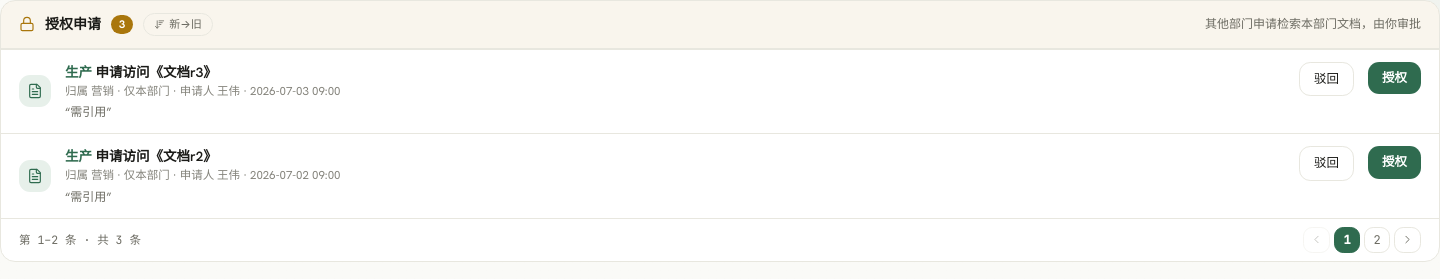
Test case: AccessRequestQueue › 排序切换 → 旧→新 + 回第 1 页；审批后变短 → 页码收敛不越界
Click the button with test id "queue-sort" at (178, 24), box [143,13,213,36]
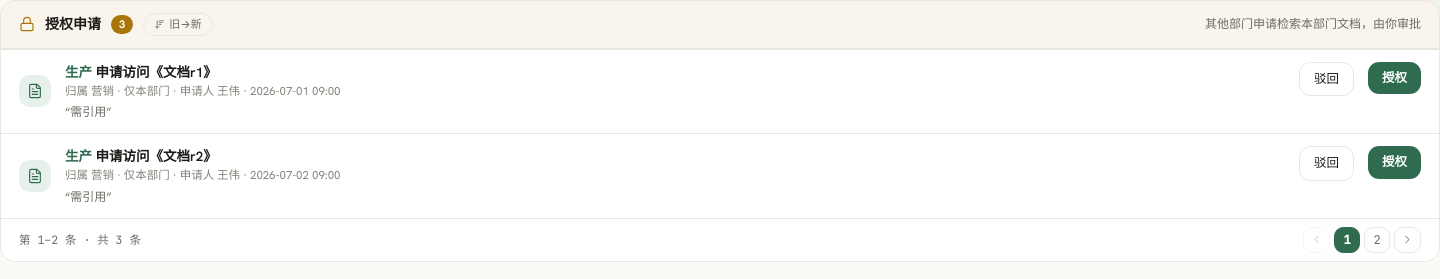
Check: the button with test id "queue-sort" reads "旧→新", box [143,13,213,36]
Check: the text "文档r1" is shown, box [92,62,217,80]
Check: the text "文档r3" is gone
Click the button named "下一页" at (1408, 240), box [1394,226,1421,252]
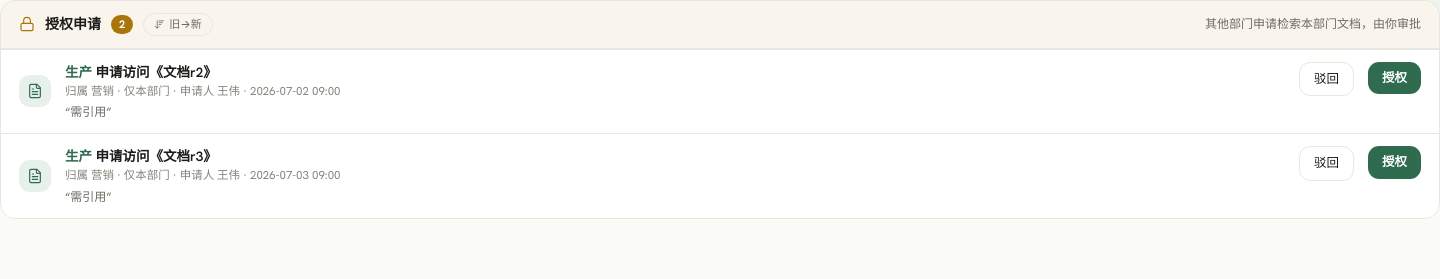
Check: the text "文档r2" is shown, box [92,62,217,80]
Check: the text "文档r3" is shown, box [92,147,217,165]
